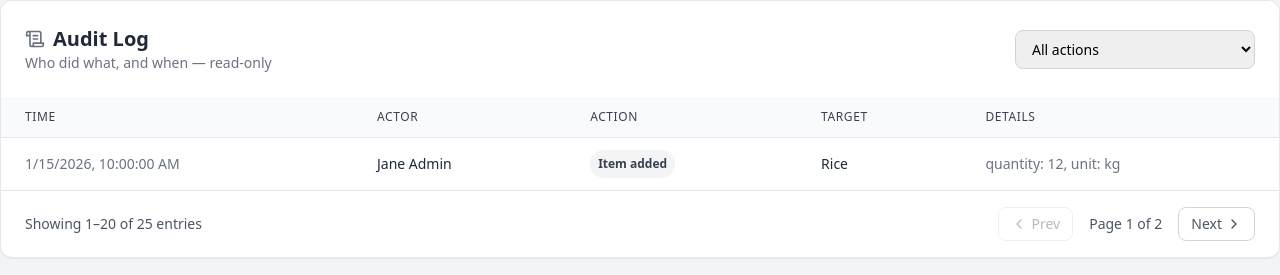
Scenario: AuditLogView › paging forward requests the next page
The image size is (1280, 275).
Check: the text "Rice" is shown, box x1=797 y1=138 x2=961 y2=190
Step 1. Click the button "Next" → point(1217, 224), box x1=1178 y1=207 x2=1255 y2=241
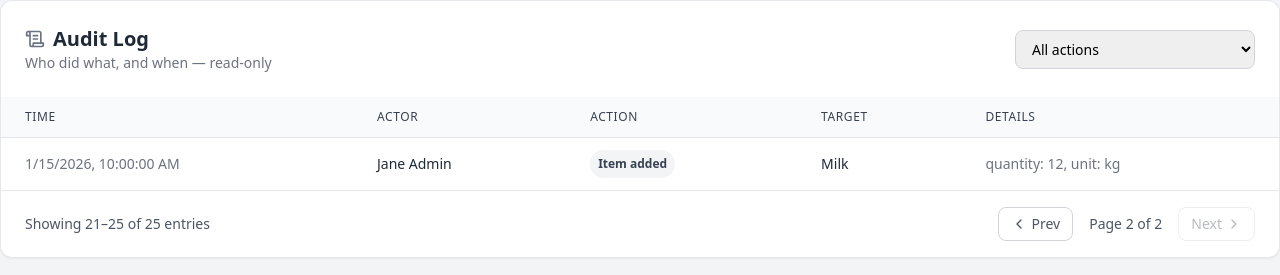
Check: the text "Milk" is shown, box x1=797 y1=138 x2=961 y2=190
